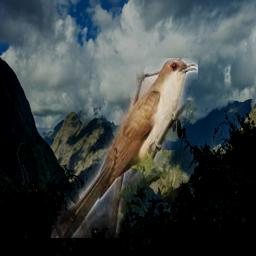Cuckoo: (51, 58, 198, 238)
